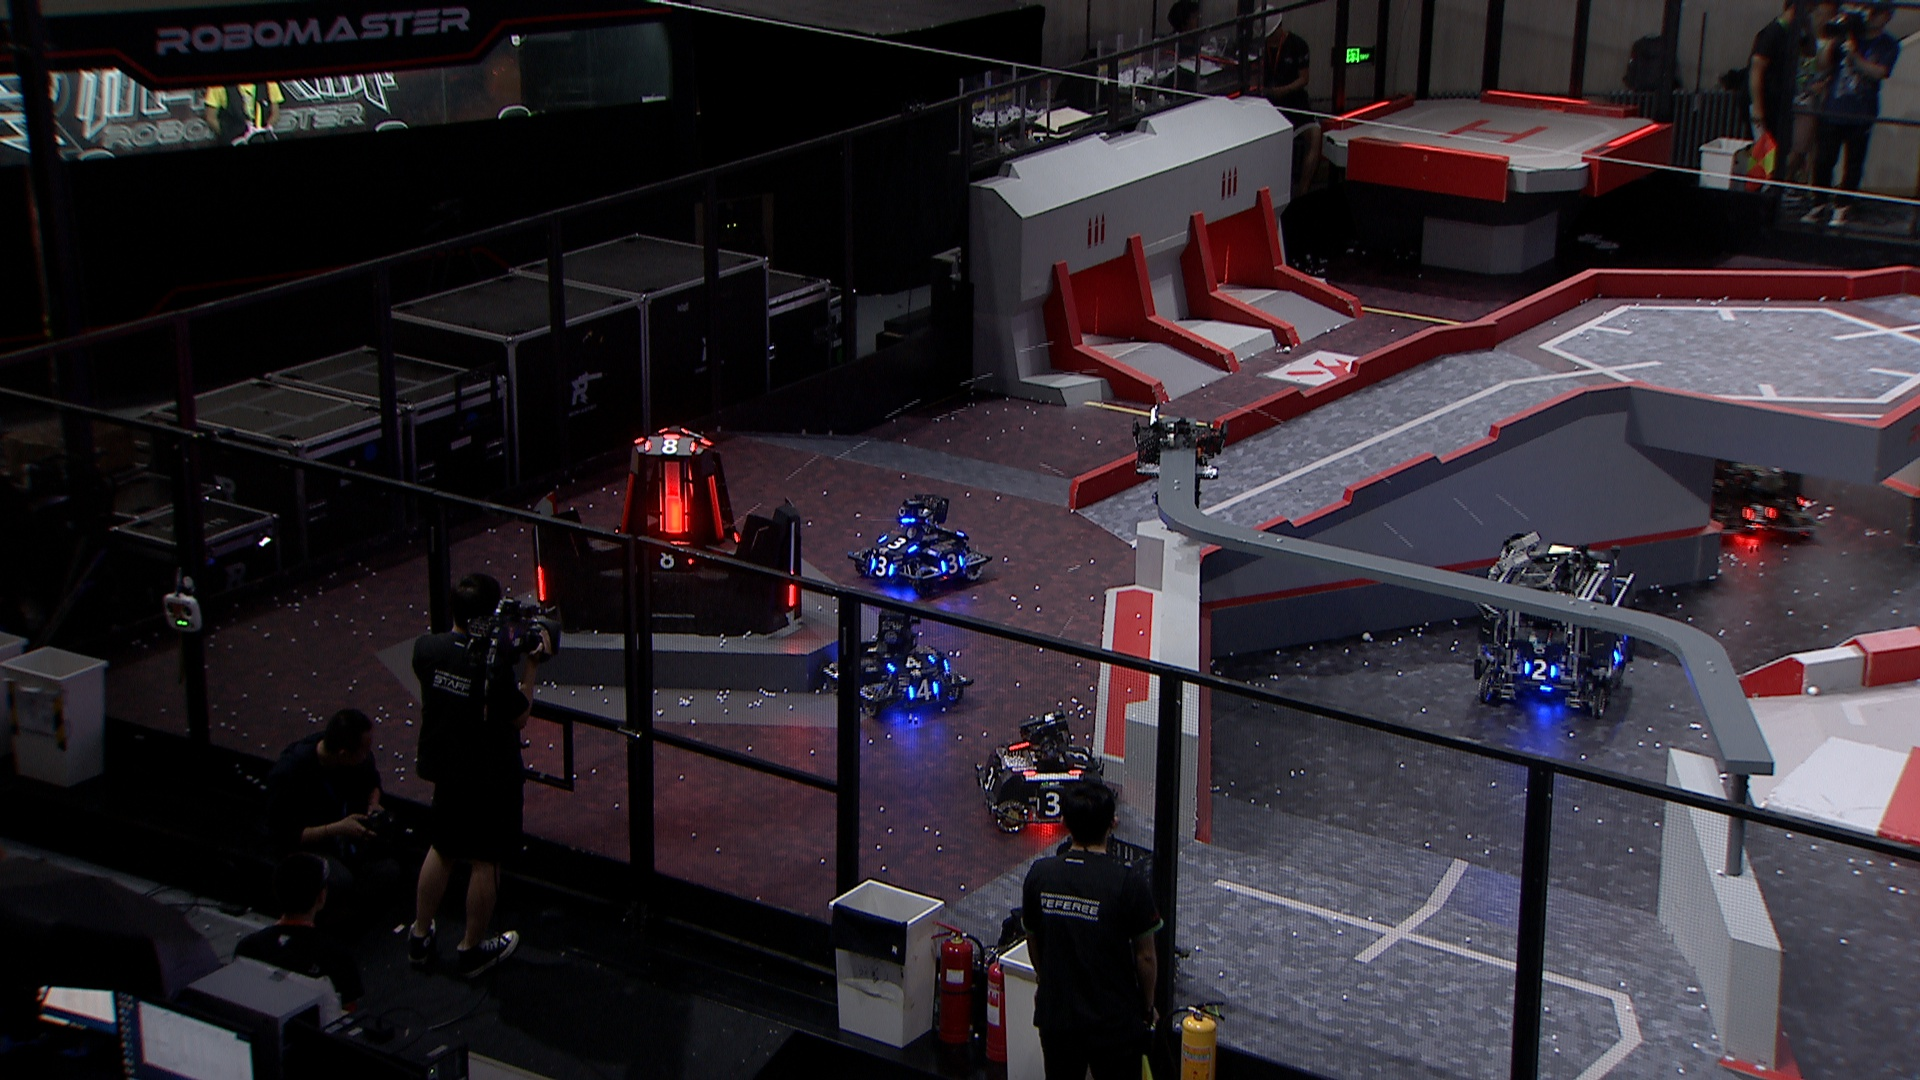armor: (705, 472, 727, 542), (661, 491, 688, 533), (642, 436, 695, 458), (618, 472, 636, 537), (647, 549, 692, 570), (889, 651, 932, 673), (1742, 504, 1778, 526), (1034, 793, 1067, 815), (877, 534, 916, 553), (1519, 659, 1553, 680), (906, 680, 942, 700), (1064, 742, 1088, 770), (534, 560, 547, 604), (981, 760, 998, 793), (940, 553, 964, 574), (787, 567, 798, 609), (870, 559, 894, 575), (1611, 640, 1626, 662)
base: (520, 423, 807, 636)
car: (1002, 825, 1185, 1000), (1472, 527, 1643, 713), (820, 604, 975, 721), (969, 707, 1106, 835), (1698, 425, 1825, 546), (852, 495, 994, 593)
watcher: (1133, 400, 1228, 522)
